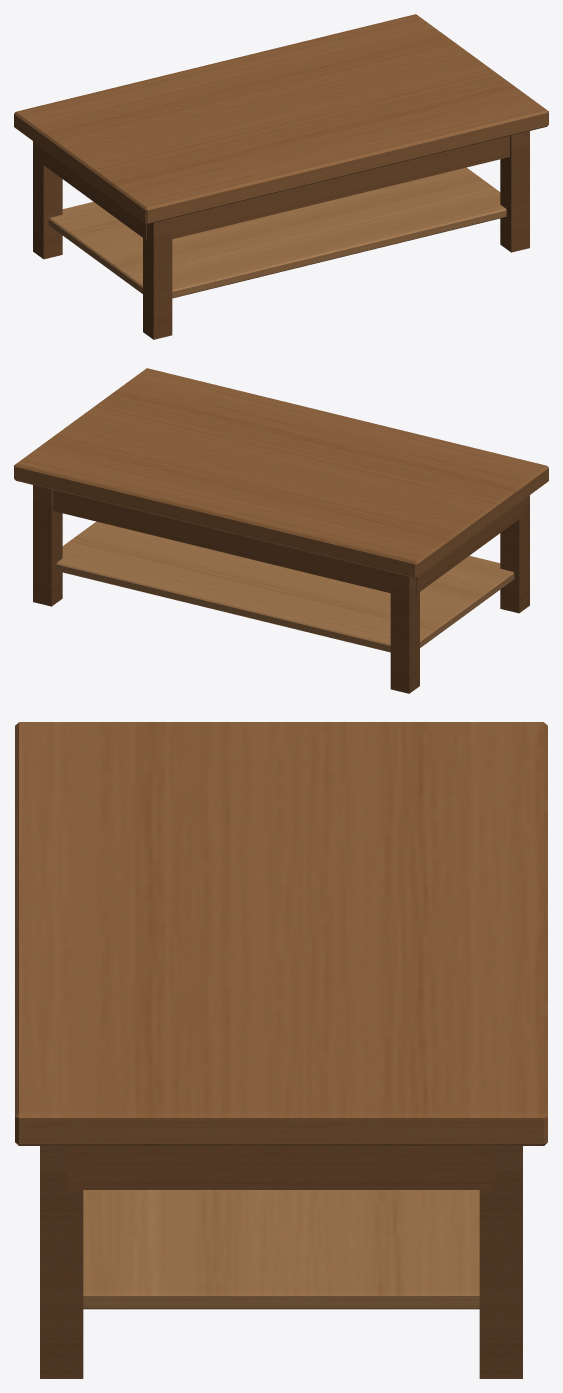
Rendered from coffee_table.glb.
The picture shows the model from 3 angles, top to bottom: view 1: azimuth 30°, elevation 25°; view 2: azimuth 150°, elevation 25°; view 3: azimuth 270°, elevation 25°; orthographic projection. The views are drawn at different scales.
Parts seen in each view (by area): view 1: home_coffee_table; view 2: home_coffee_table; view 3: home_coffee_table.
Boxes of the visible parts, box(x1,y1,x2,y2) form: home_coffee_table: box(14, 14, 548, 339); home_coffee_table: box(14, 368, 548, 693); home_coffee_table: box(15, 722, 547, 1378).
Size of the model in its own units: 1.4 by 0.46 by 0.8.
Materials: 1 (1 with a texture image).
